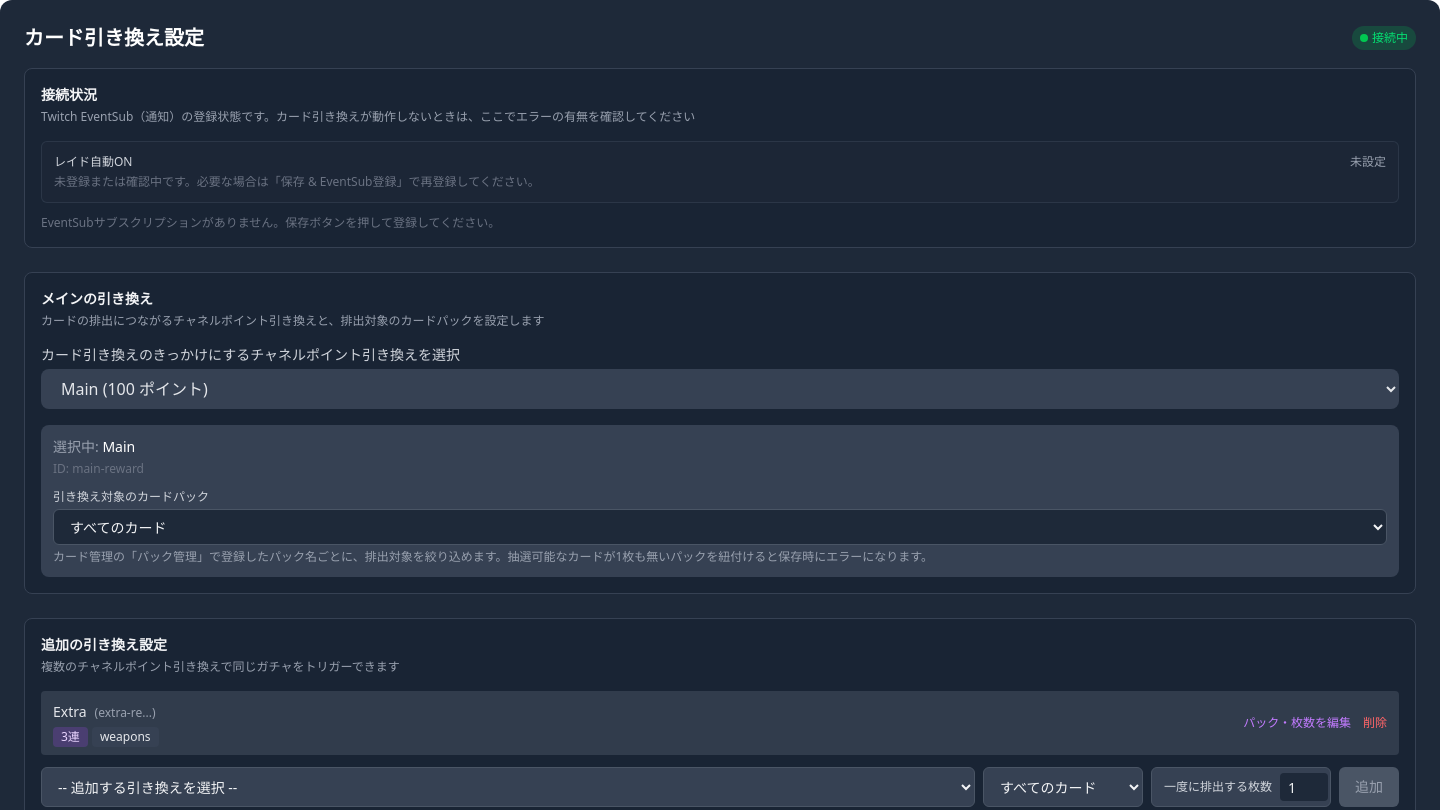
Test: ChannelPointSettings additional-reward editing › sends a PUT with the new collection and draw count, then closes the form
Step 1. Click the button with aria-label "のパック・枚数を編集" → click(1297, 723), box left=1243, top=715, right=1351, bottom=731
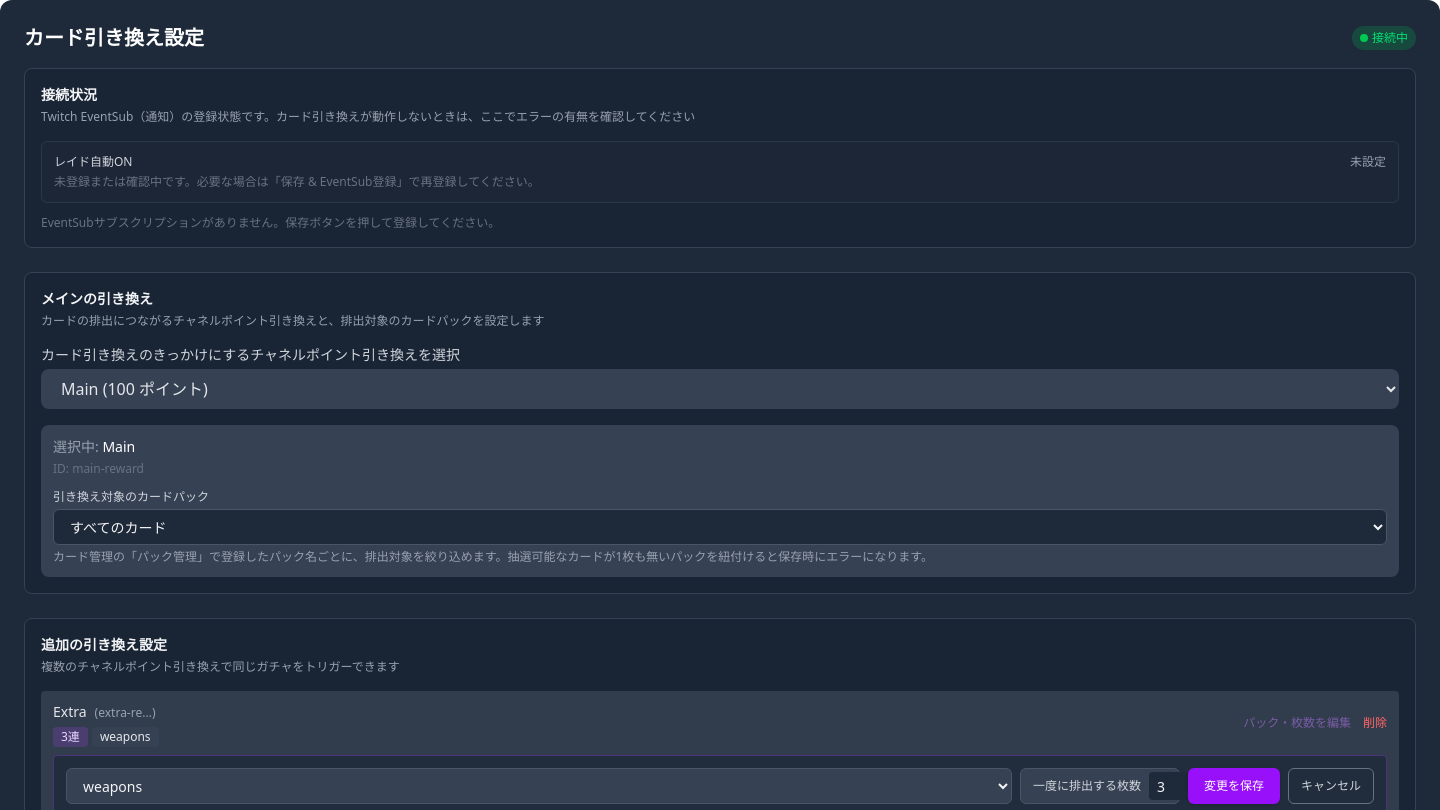
Step 2. Select "characters" in the dropdown named "編集する引き換えのカードパック" → (539, 786), box left=66, top=768, right=1012, bottom=804
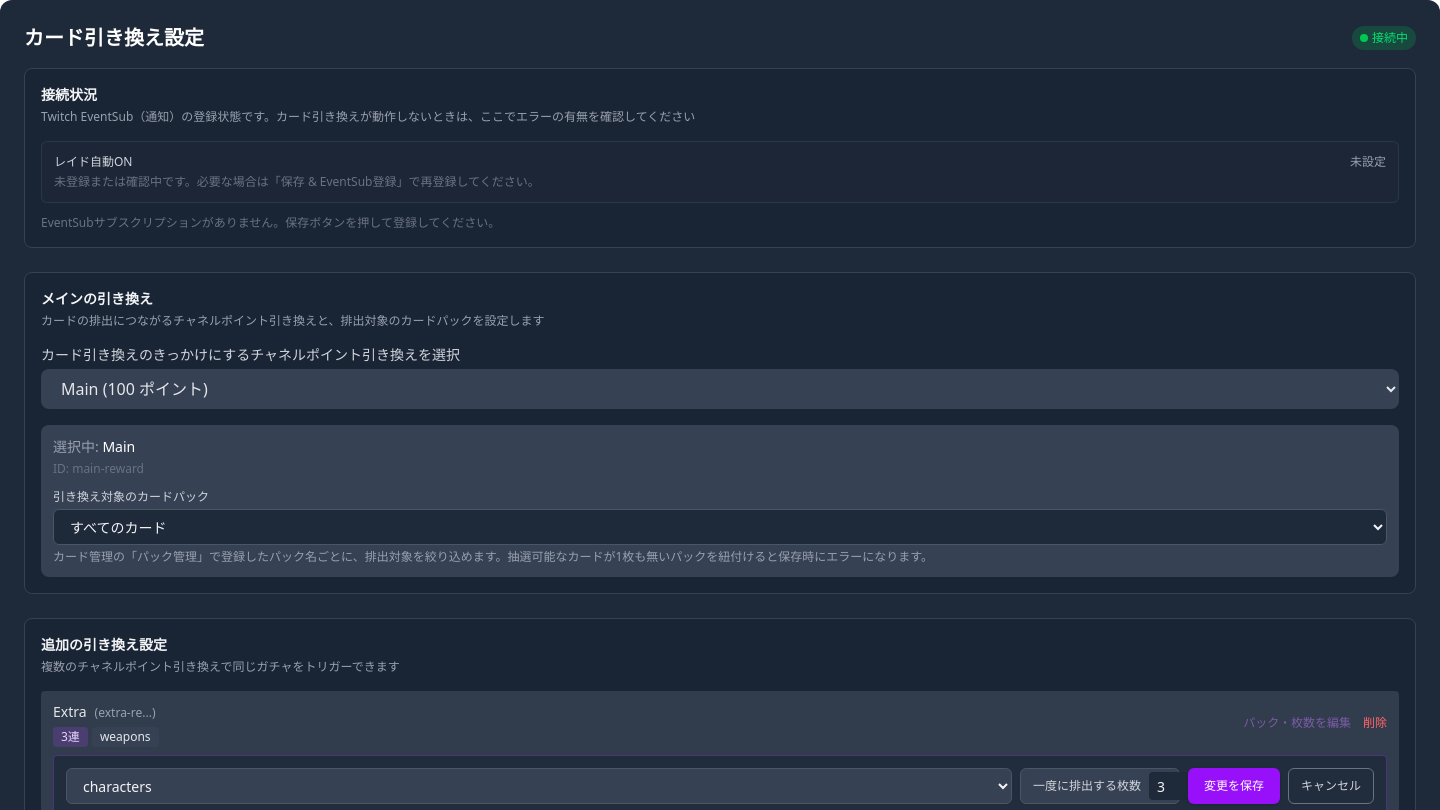
Step 3. Replace the text in the number field named "一度に排出する枚数（編集）" with "5" → (1173, 786), box left=1149, top=772, right=1197, bottom=800
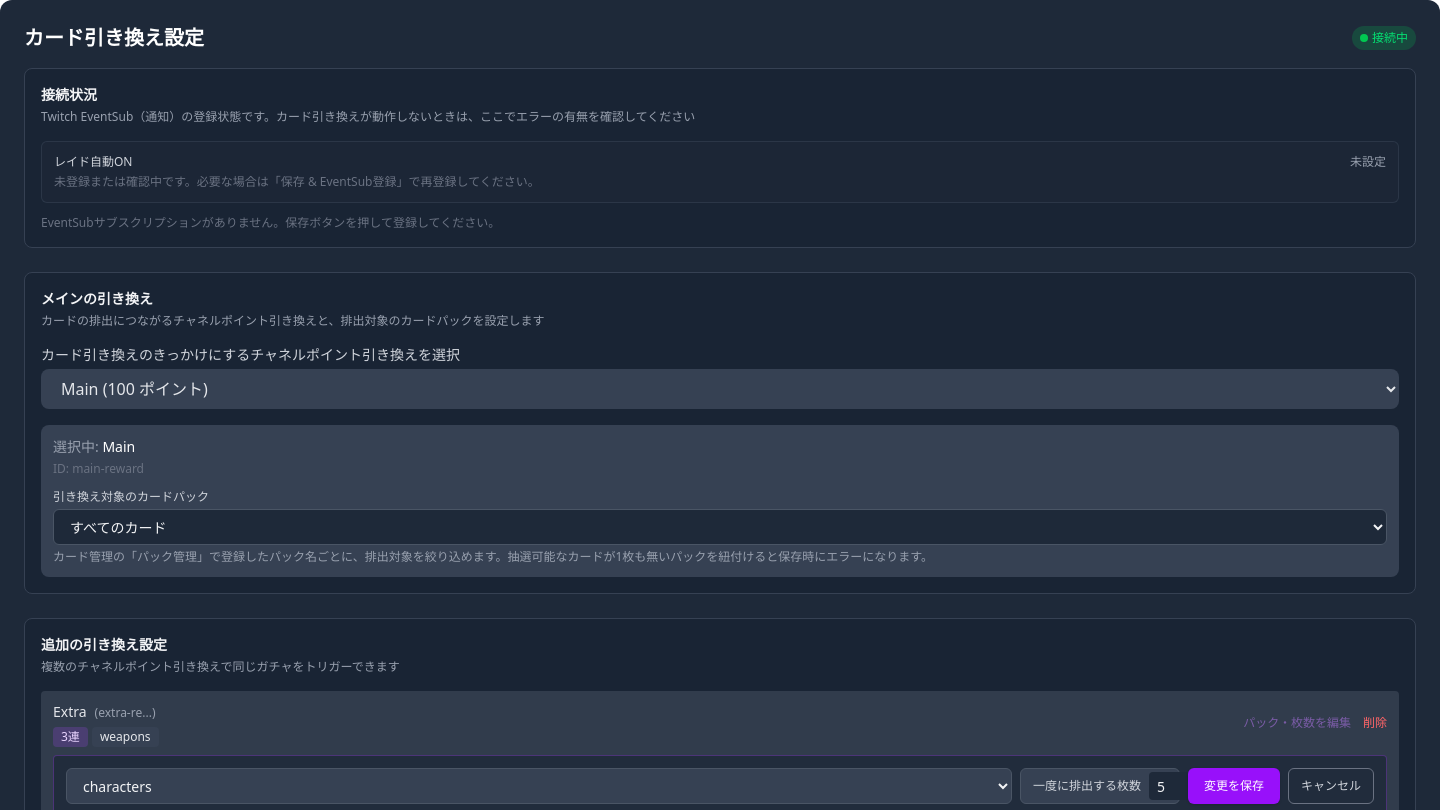
Step 4. Click the button "変更を保存" → click(1234, 786), box left=1188, top=768, right=1280, bottom=804
(page scrolled)
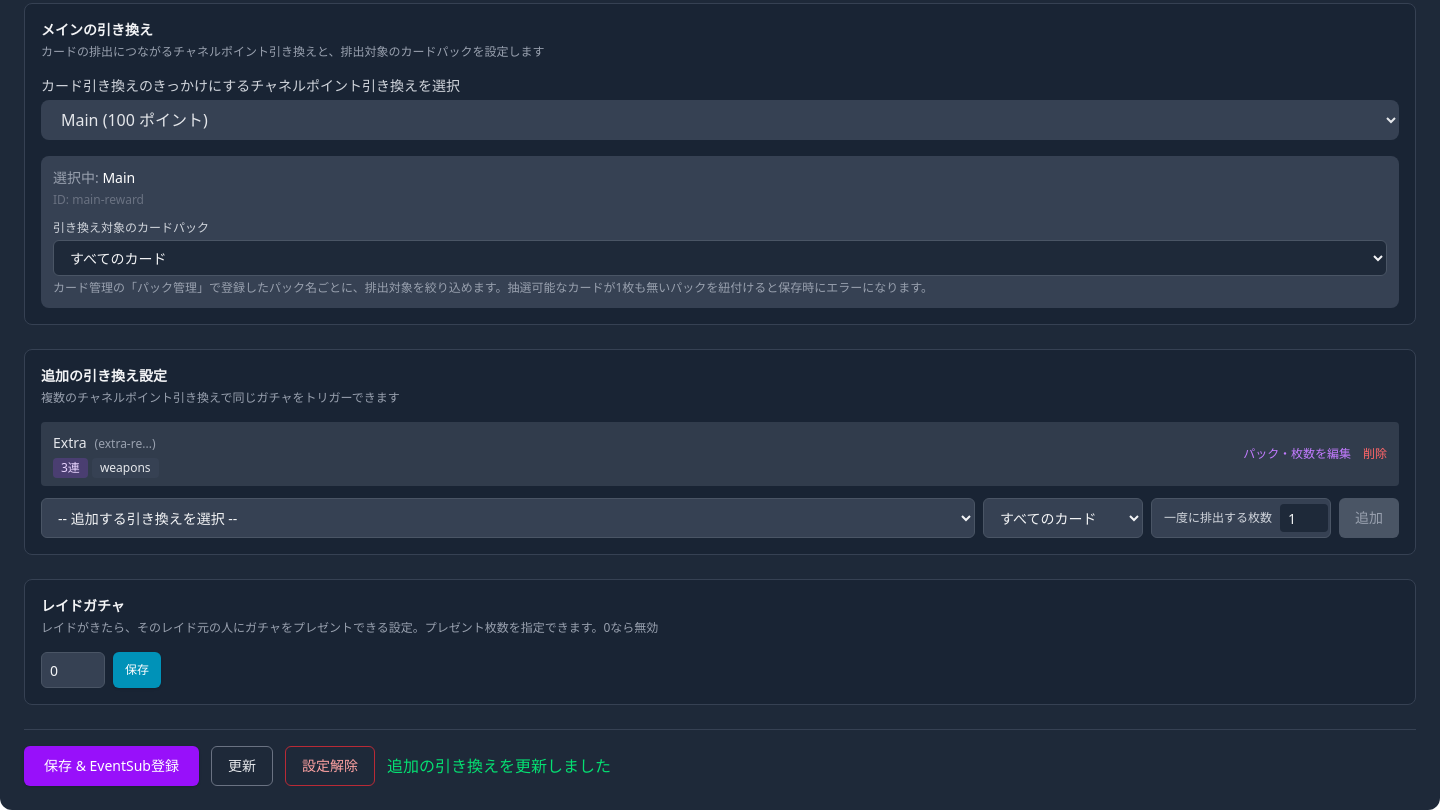
expect the text "追加の引き換えを更新しました" is shown: met, box left=387, top=754, right=611, bottom=778
expect the button "キャンセル" is gone: met
